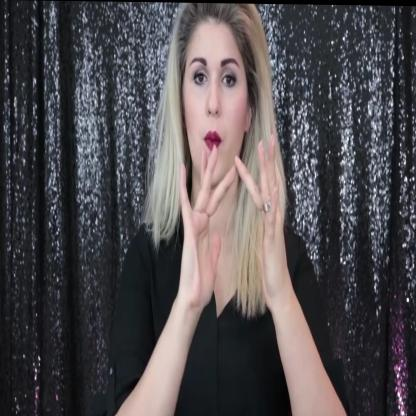Internet: (171, 129, 293, 310)
